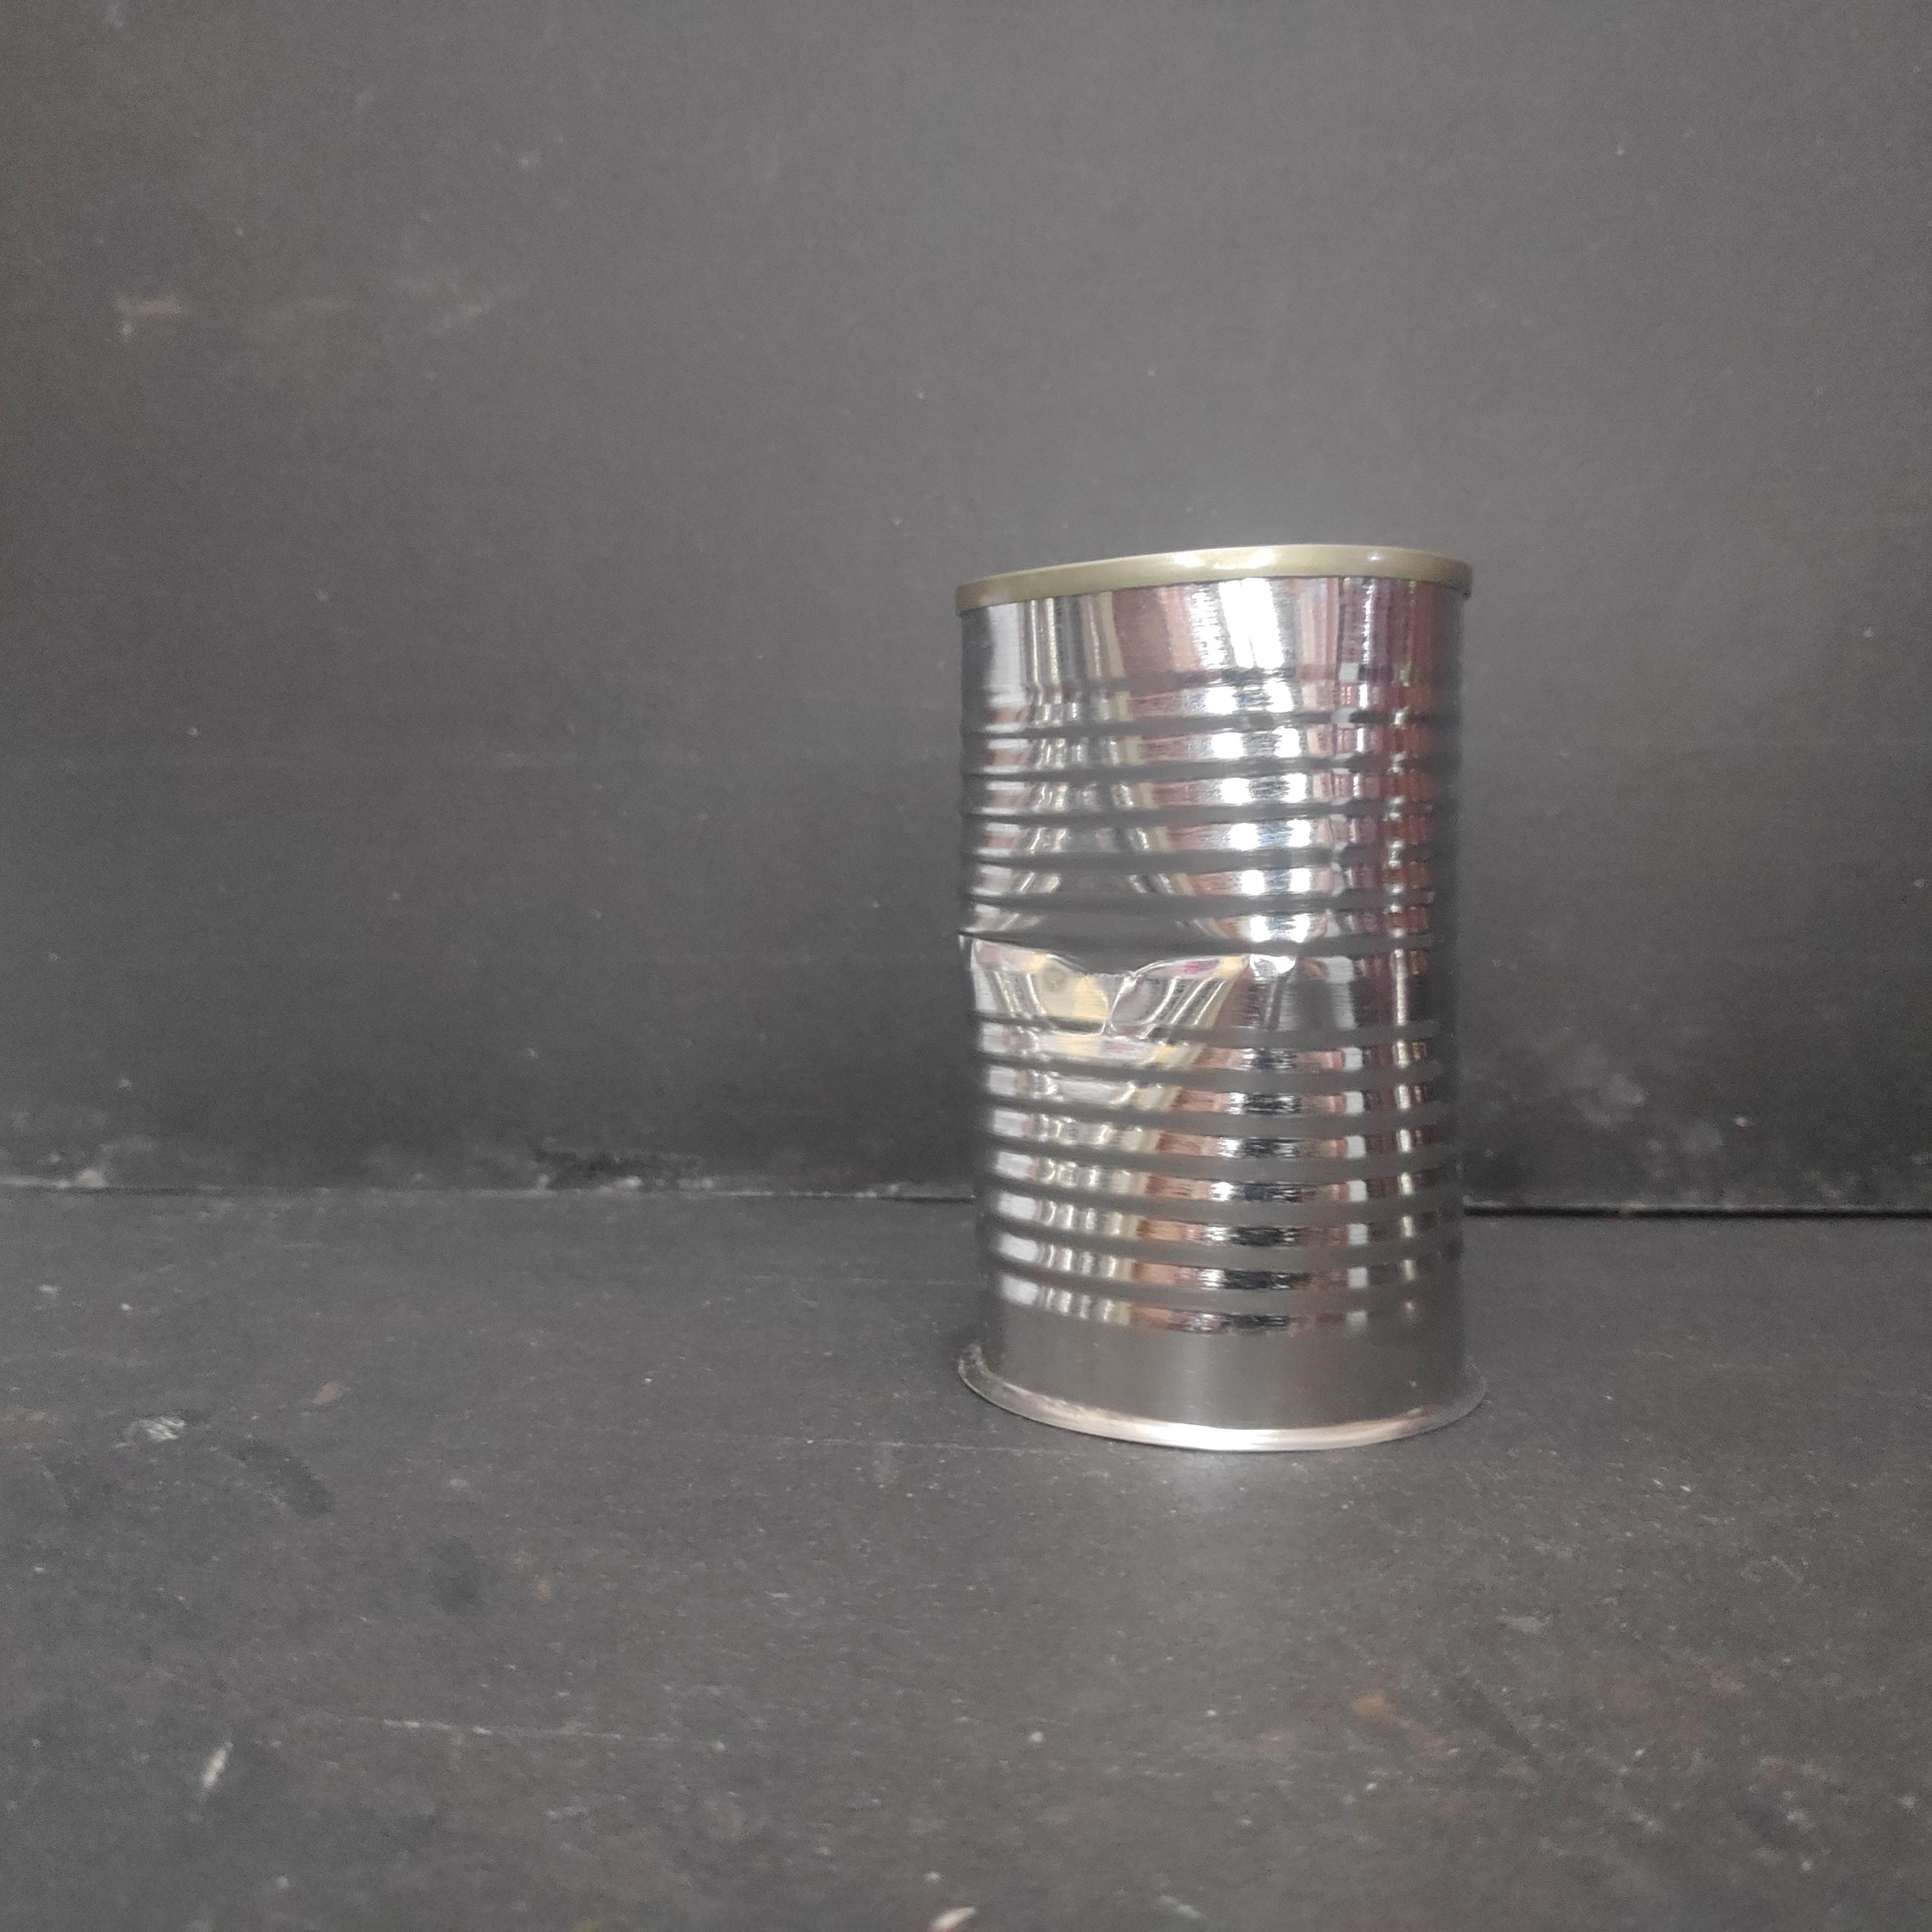Minor Defect: (939, 538, 1488, 1460)
